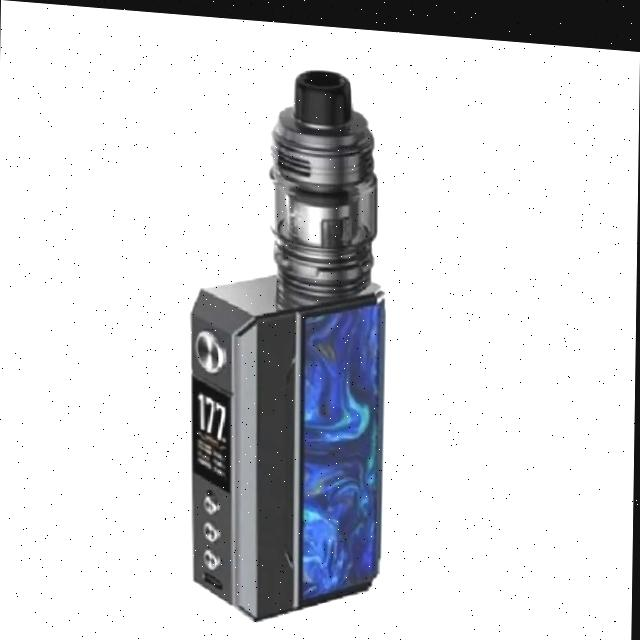vape: (185, 55, 389, 626)
